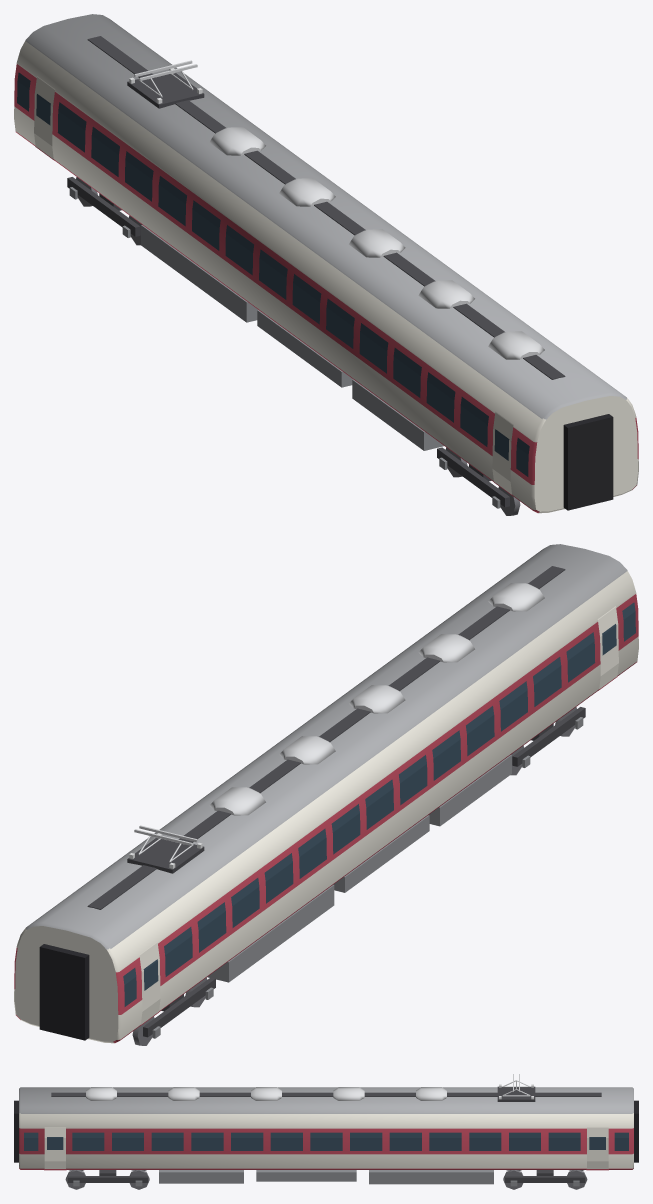
File: middle_2.fbx
3 renders of one model, top to bottom at view 1: azimuth 30°, elevation 25°; view 2: azimuth 150°, elevation 25°; view 3: azimuth 270°, elevation 25°, orthographic. The views are drawn at different scales.
Visible parts, largest first — view 1: 21_middle_2; view 2: 21_middle_2; view 3: 21_middle_2.
Boxes of the visible parts, x1,y1,x2,y2 form: 21_middle_2: (14,14,638,515); 21_middle_2: (14,544,638,1045); 21_middle_2: (14,1074,638,1189).
Bounding box in the file's own units: 2.96 × 4.35 × 25.
